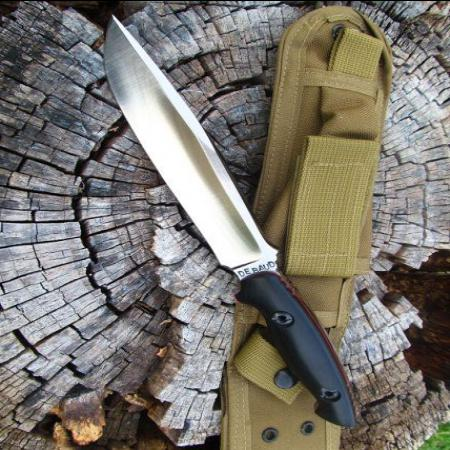long weapon: (98, 6, 292, 292)
